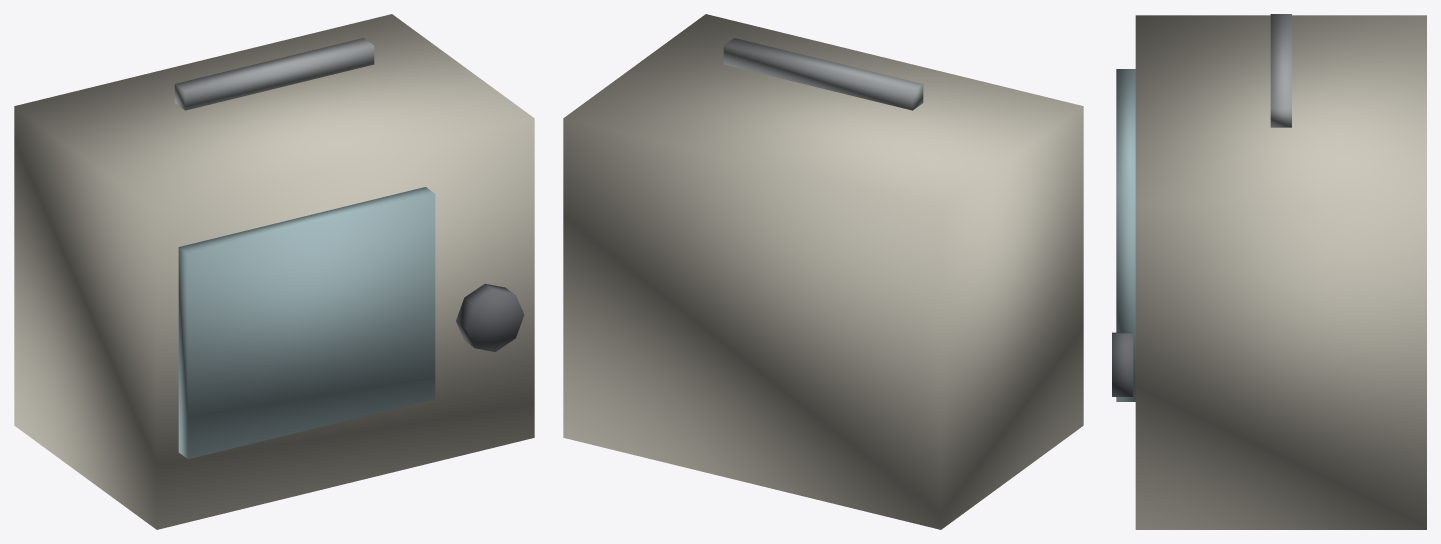
Rendered from portable_television.glb.
3 views of the same model, side by side, from view 1: azimuth 30°, elevation 25°; view 2: azimuth 150°, elevation 25°; view 3: azimuth 270°, elevation 25° (orthographic). The views are drawn at different scales.
Parts seen in each view (by area): view 1: world; view 2: world; view 3: world.
Part boxes in pixels (box(x1,y1,x2,y2)): world: box(14, 14, 534, 529); world: box(563, 14, 1083, 529); world: box(1112, 14, 1426, 529).
Size of the model in its own units: 0.52 by 0.4825 by 0.3675.
